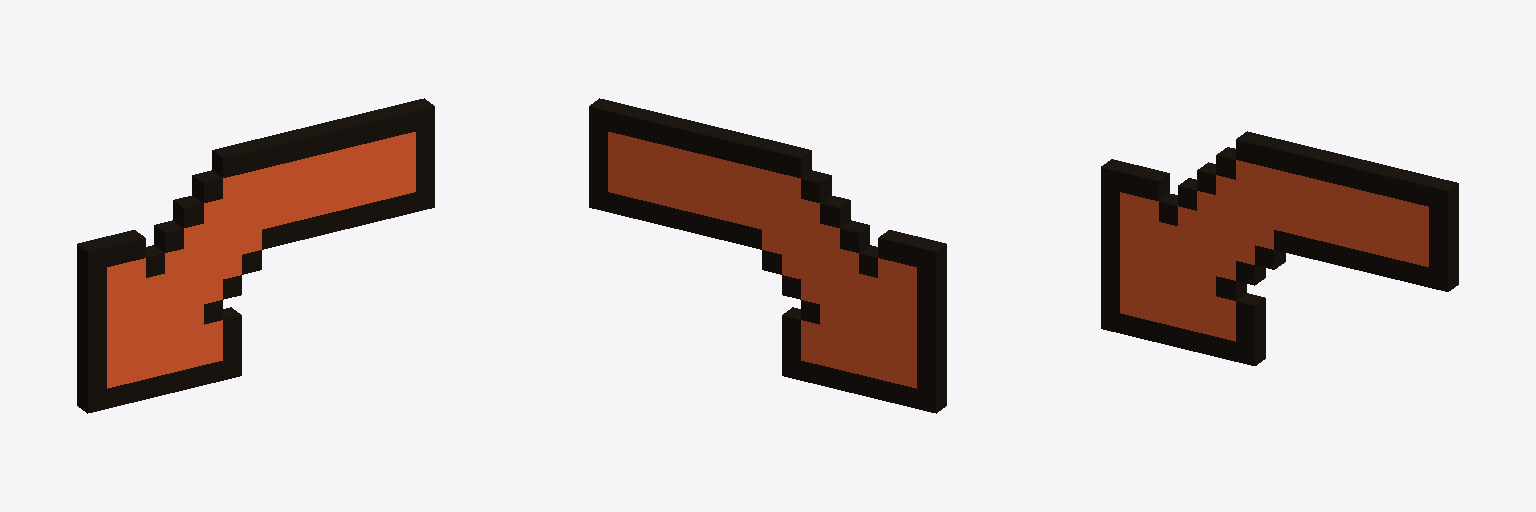
3 renders of one model, left to right at view 1: azimuth 30°, elevation 25°; view 2: azimuth 150°, elevation 25°; view 3: azimuth 330°, elevation 25°, orthographic.
Size of the model in its own units: 18 by 11 by 1.
1 materials, 1 textured.